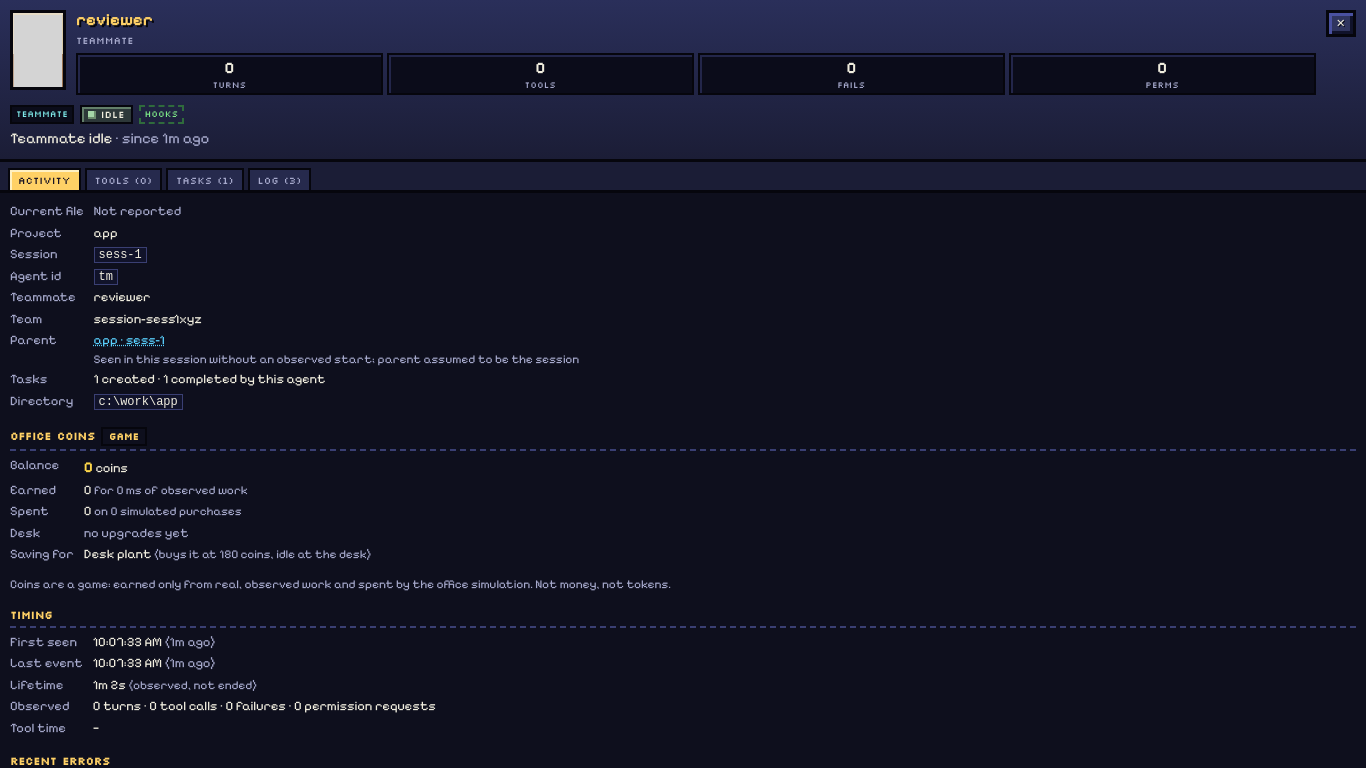
Test: Inspector: identity and relationships › re-sanitises task subjects before display and handles a removed parent
Later steps or results of the test are not shown.
Click the tab "Tasks (1)" at coordinates (205, 179), box [166,168,244,190]
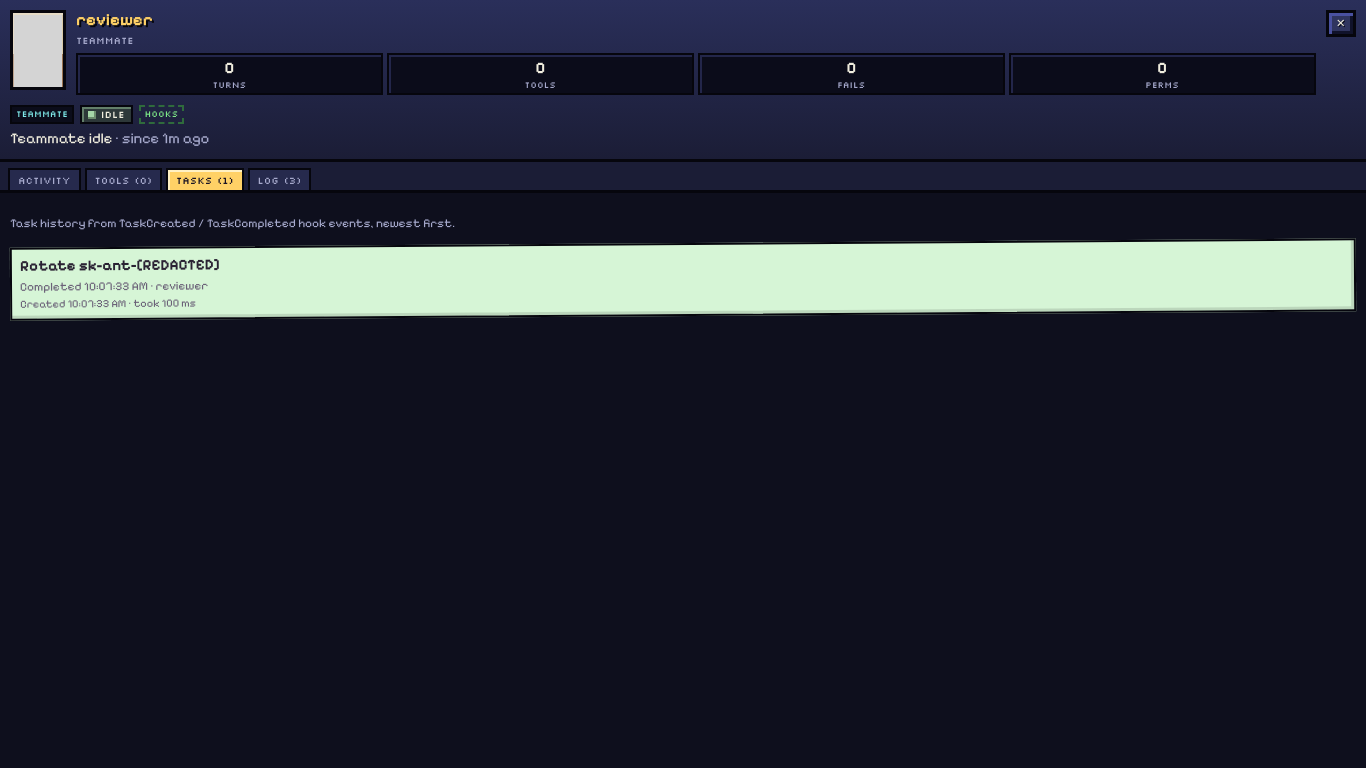
expect the text "Rotate sk-ant-[REDACTED]" is shown: met, box [20,256,220,275]
